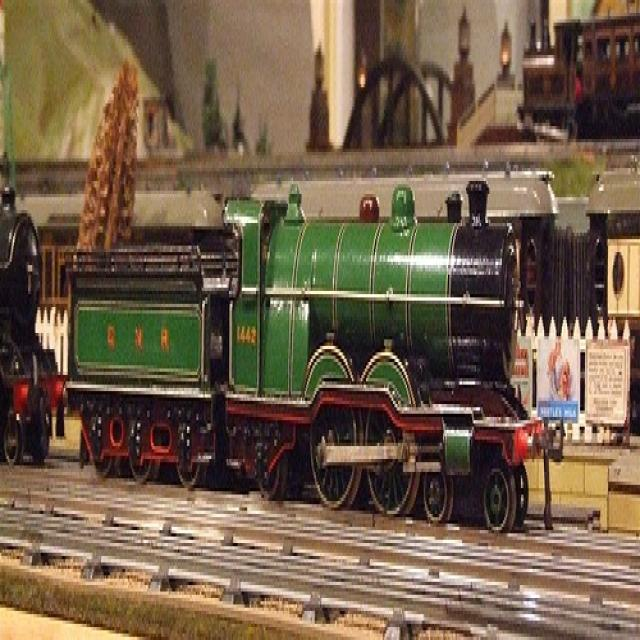train: (64, 152, 557, 482), (0, 184, 61, 462)
